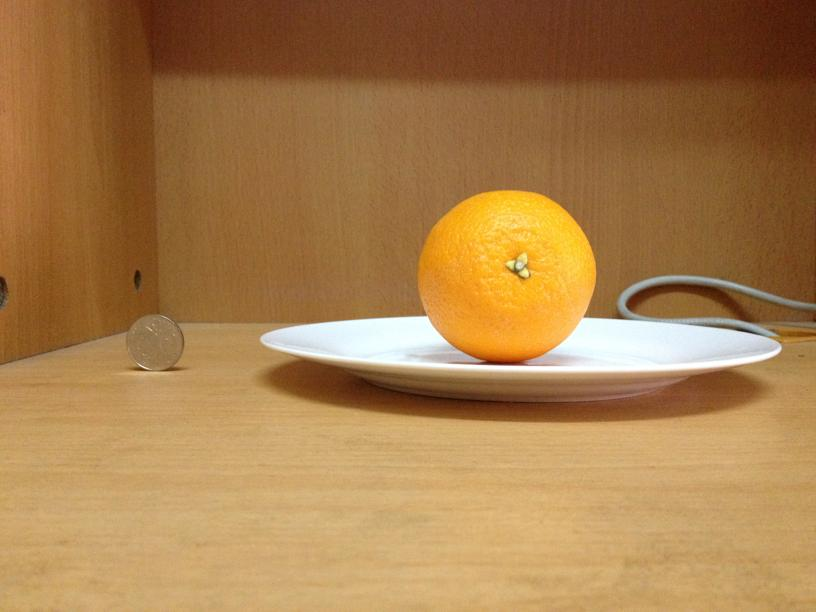coin: (122, 311, 183, 372)
orange: (419, 189, 596, 362)
